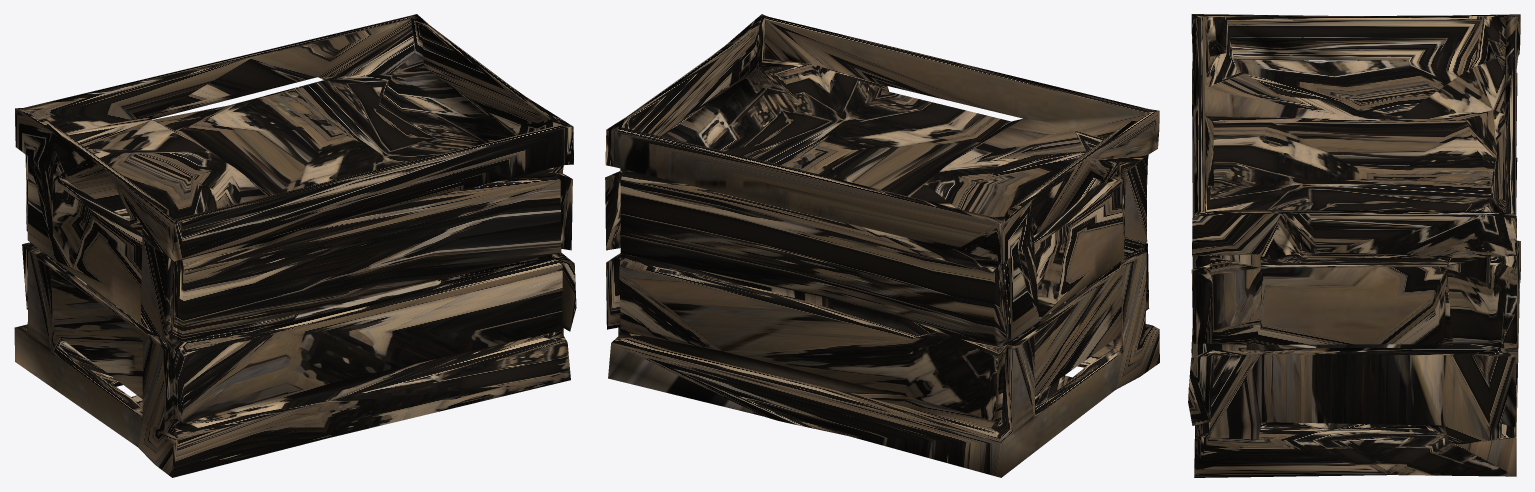
The model's file is crate.glb.
The picture shows the model from 3 angles, left to right: view 1: azimuth 30°, elevation 25°; view 2: azimuth 150°, elevation 25°; view 3: azimuth 270°, elevation 25°; orthographic projection. The views are drawn at different scales.
Parts seen in each view (by area): view 1: crate; view 2: crate; view 3: crate.
Part boxes in pixels (x1=…): crate: x1=14, y1=14, x2=576, y2=477; crate: x1=605, y1=14, x2=1159, y2=477; crate: x1=1188, y1=14, x2=1520, y2=477.
Size of the model in its own units: 0.9966 by 0.6045 by 0.6896.
Materials: 1 (1 with a texture image).
